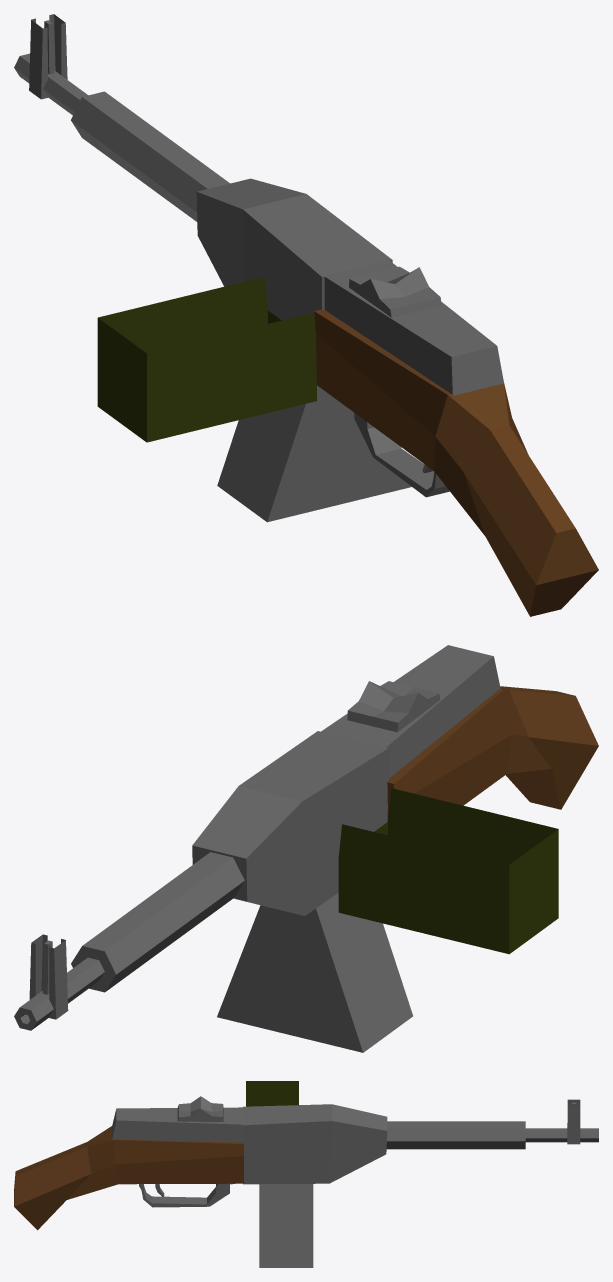
The model's file is machine_gun_old.glb.
3 renders of one model, top to bottom at view 1: azimuth 30°, elevation 25°; view 2: azimuth 150°, elevation 25°; view 3: azimuth 270°, elevation 25°, orthographic. The views are drawn at different scales.
Parts seen in each view (by area): view 1: gun_body, ammo_box, gun_body_2, Cube.001, chamber, barrel.001, Cube, aim, barrel; view 2: ammo_box, gun_body_2, Cube.001, gun_body, chamber, barrel.001, aim, barrel; view 3: gun_body, gun_body_2, chamber, Cube.001, barrel.001, ammo_box, Cube, barrel, aim.
Part boxes in pixels (<box>): gun_body: <box>314,309,598,616</box>; ammo_box: <box>97,277,316,442</box>; gun_body_2: <box>196,178,392,329</box>; Cube.001: <box>217,385,411,522</box>; chamber: <box>324,260,504,395</box>; barrel.001: <box>71,91,229,221</box>; Cube: <box>354,413,449,497</box>; aim: <box>29,14,67,99</box>; barrel: <box>14,53,87,115</box>; ammo_box: <box>338,788,558,954</box>; gun_body_2: <box>192,731,388,915</box>; Cube.001: <box>217,893,412,1052</box>; gun_body: <box>387,686,598,821</box>; chamber: <box>321,645,500,778</box>; barrel.001: <box>71,852,244,992</box>; aim: <box>29,934,68,1019</box>; barrel: <box>14,957,104,1030</box>; gun_body: <box>14,1126,244,1230</box>; gun_body_2: <box>243,1104,387,1184</box>; chamber: <box>112,1096,242,1142</box>; Cube.001: <box>259,1184,313,1267</box>; barrel.001: <box>386,1121,525,1149</box>; ammo_box: <box>246,1081,298,1106</box>; Cube: <box>139,1183,234,1207</box>; barrel: <box>525,1128,598,1142</box>; aim: <box>567,1099,580,1144</box>.
Bounding box in the file's own units: 0.1637 × 0.1521 × 0.5509.
